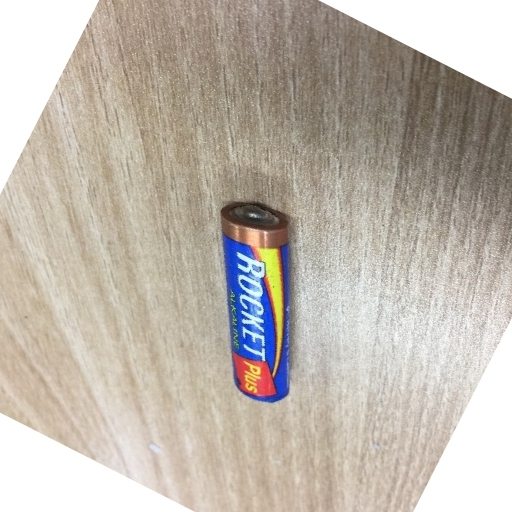Battery_0: (211, 187, 310, 412)
